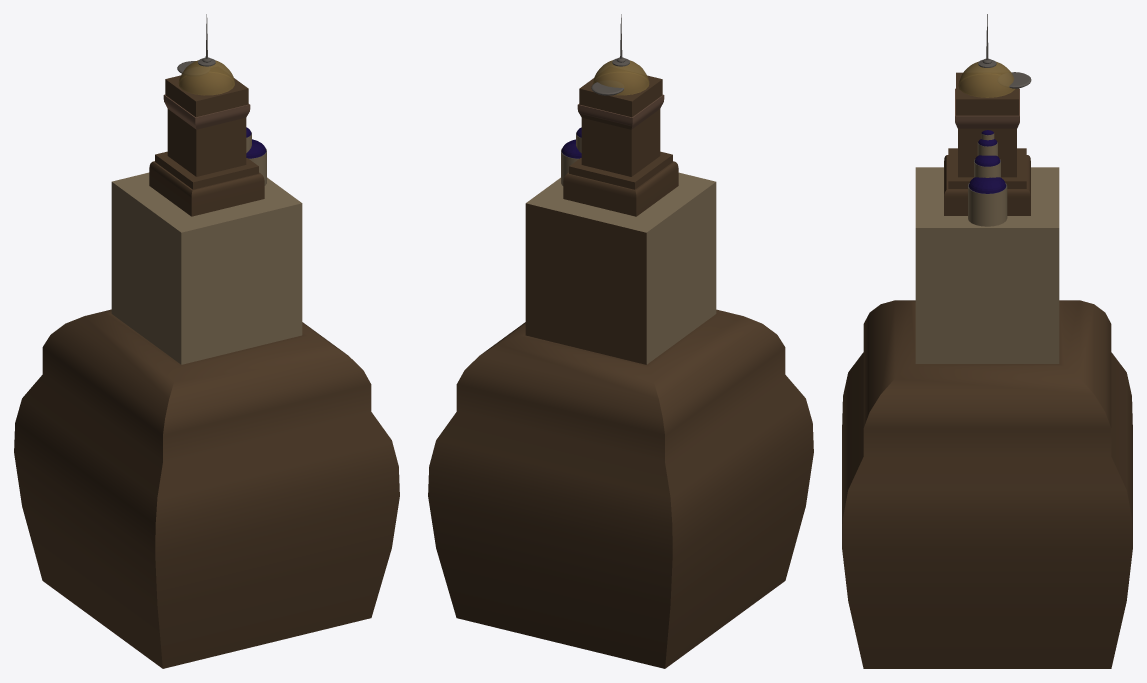
Rendered from BBuilding.fbx.
3 renders of one model, left to right at view 1: azimuth 30°, elevation 25°; view 2: azimuth 150°, elevation 25°; view 3: azimuth 270°, elevation 25°, orthographic. The views are drawn at different scales.
Parts seen in each view (by area): view 1: Building_LOD0; view 2: Building_LOD0; view 3: Building_LOD0.
Part boxes in pixels (x1,y1,x2,y2): Building_LOD0: (14, 14, 399, 668); Building_LOD0: (428, 14, 813, 668); Building_LOD0: (842, 14, 1132, 668).
Bounding box in the file's own units: 18.16 × 41.52 × 18.16.
